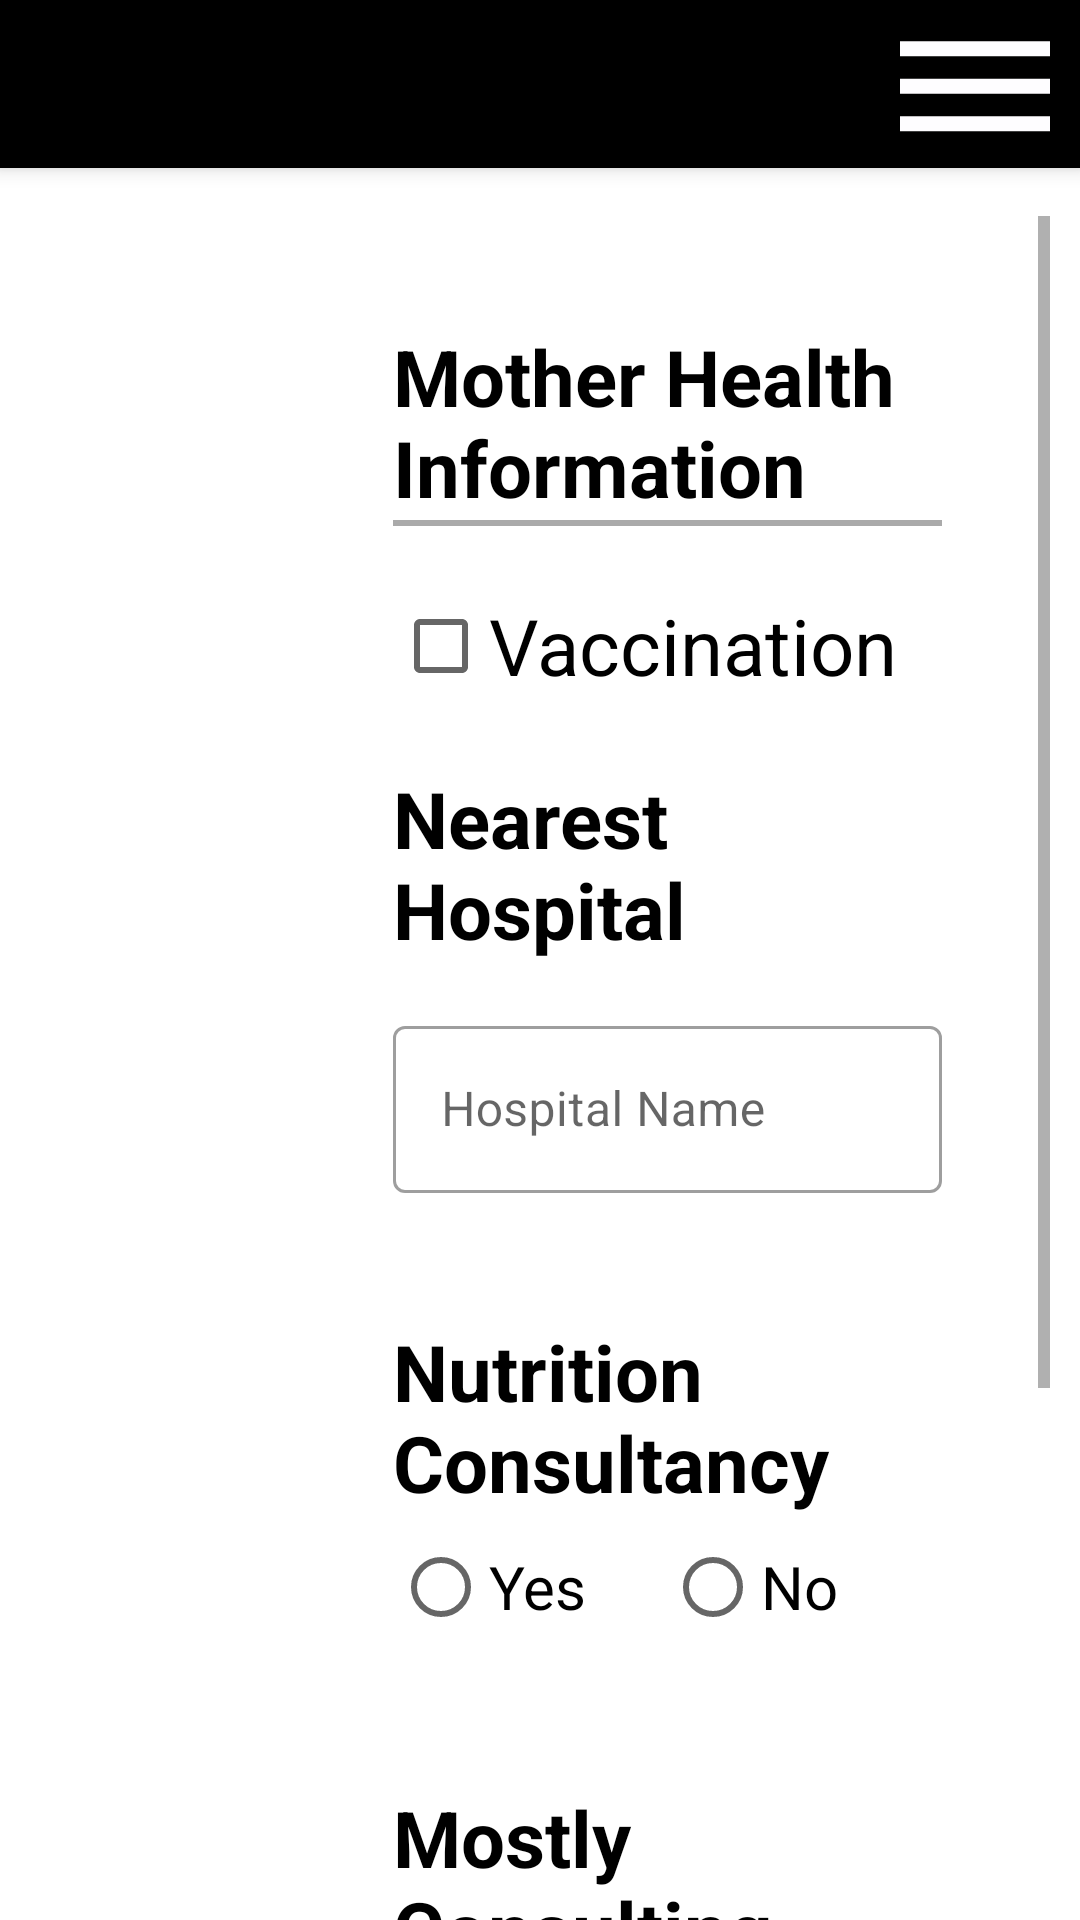

Where icons sit on this 1080x1920 app screen, as bbox(x1, y1, x2, y2):
dehaze: bbox(900, 41, 1050, 132)
